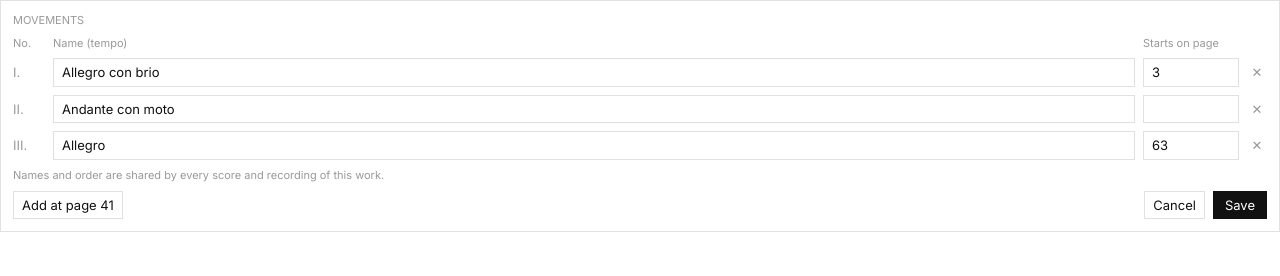
Test case: ScoreMovementEditor › explains a server failure that has no message
This screenshot has width=1280, height=276.
Click the button "Save" at (1240,205), box [1213,191,1267,219]
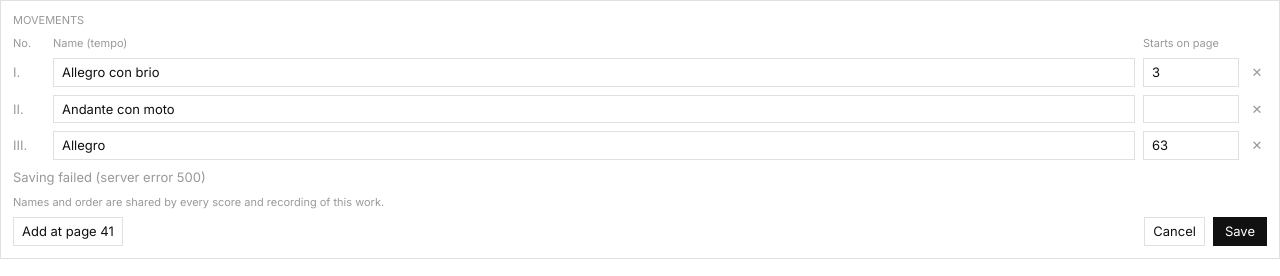
Now the text "Saving failed (server error 500)" is shown, box [13,169,206,185]
